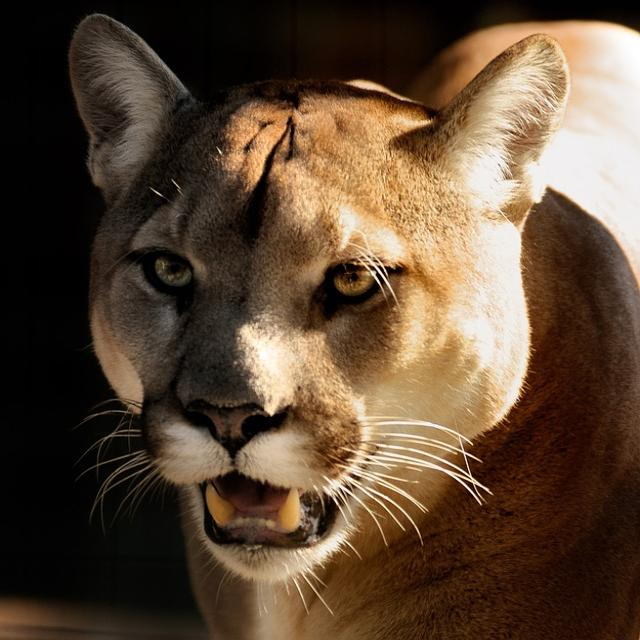Carnivorous: (66, 14, 640, 640)
